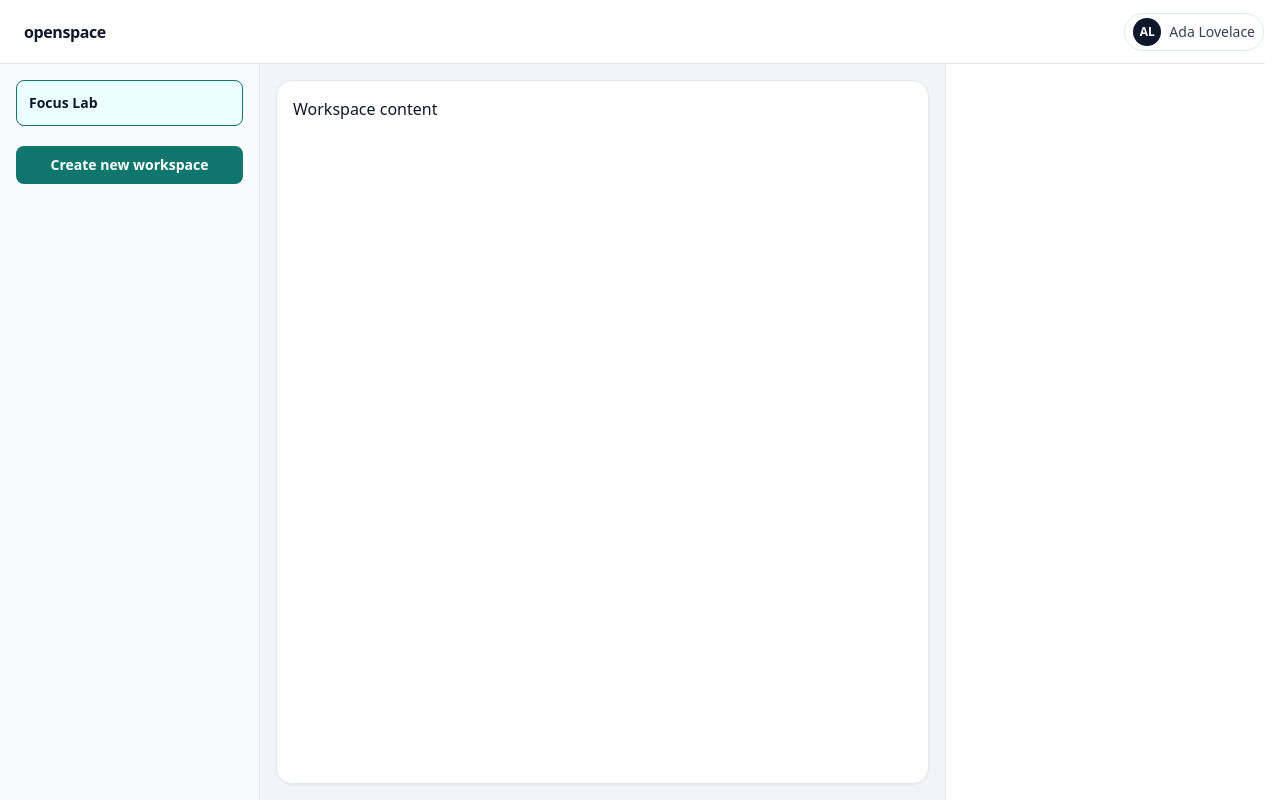
Test: WorkspaceShell › opens leave workspace with an empty email field
This screenshot has width=1280, height=800.
Click the button "AL Ada Lovelace".
click(1194, 32)  # box [1124, 12, 1264, 50]
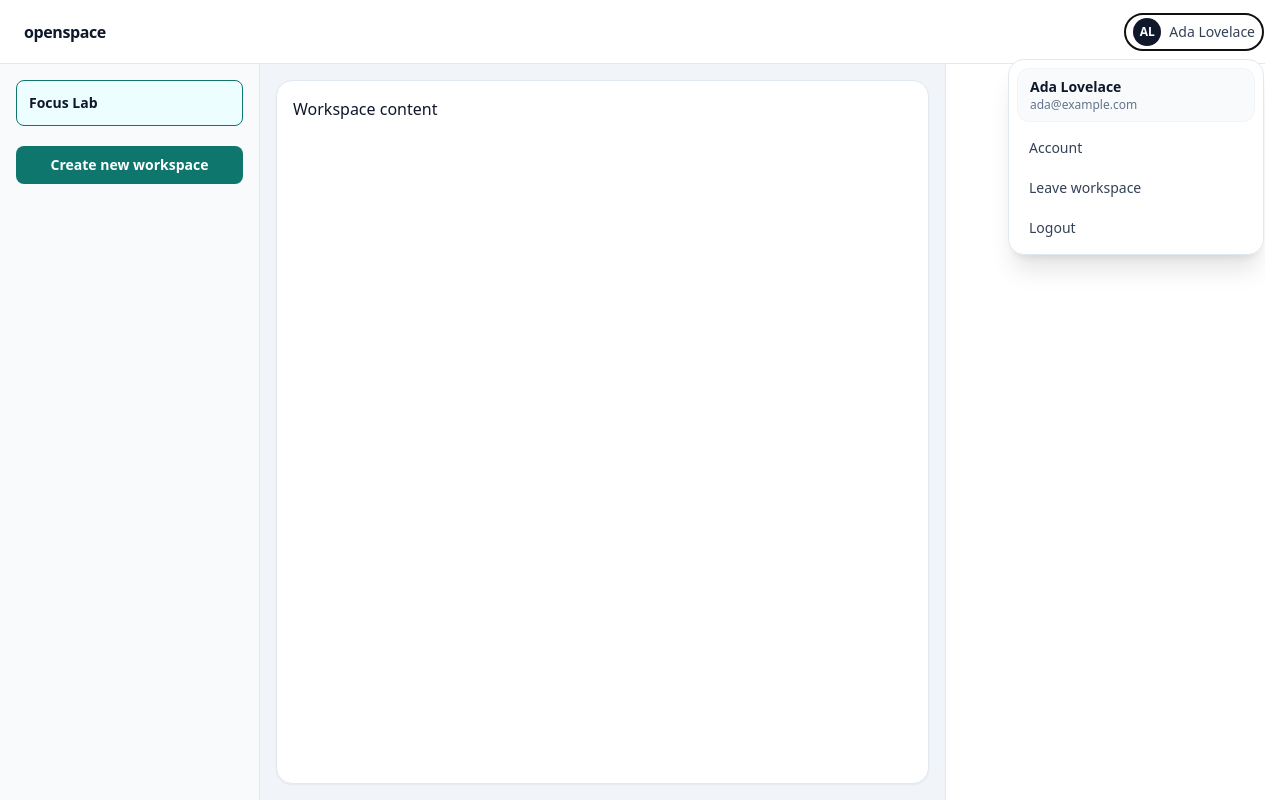
Click the menu item "Leave workspace".
click(1136, 188)  # box [1017, 170, 1255, 206]
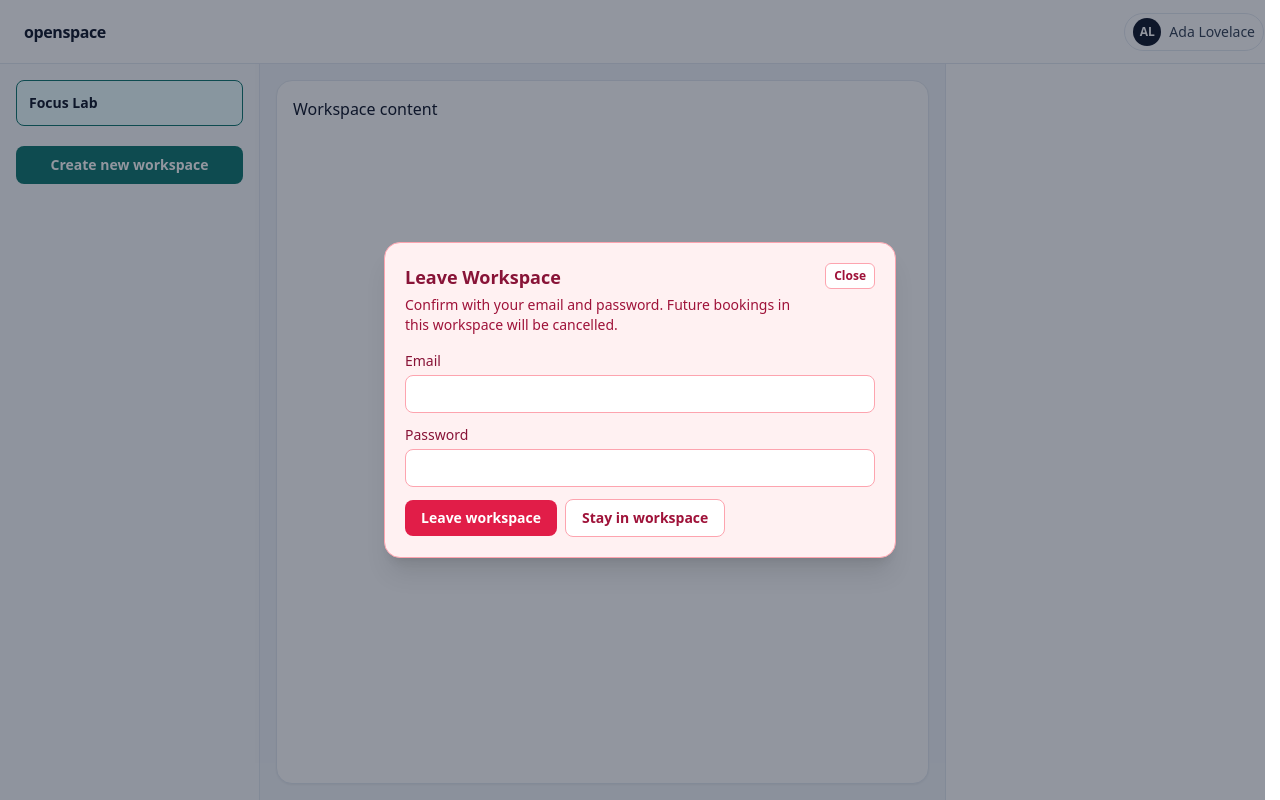
Expected: the field labelled "Email" is empty, [405, 375, 875, 413]
Now the heading "Leave Workspace" is shown, box [405, 265, 561, 289]
